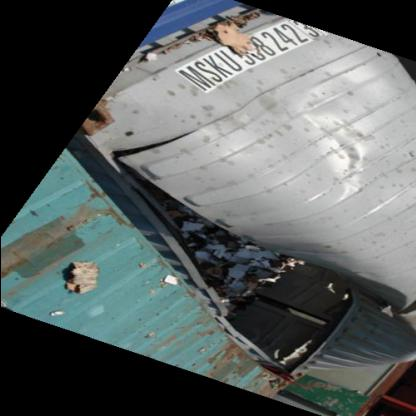Damage: (112, 173, 370, 371)
